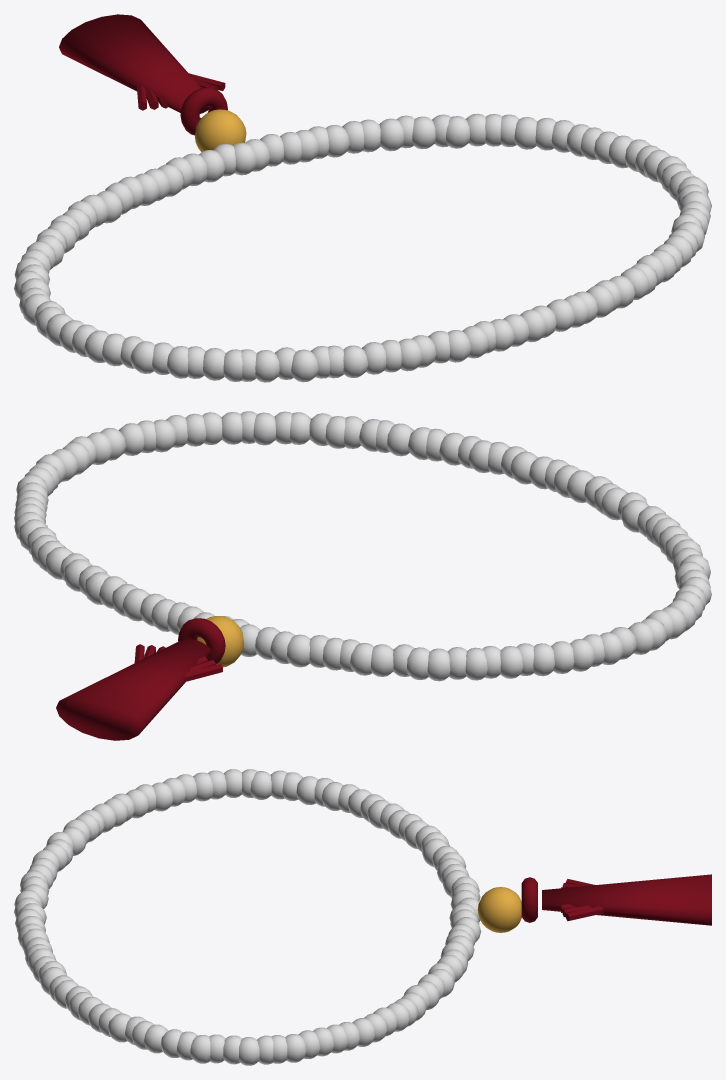
The model's file is chuoi_v2.glb.
3 views of the same model, one above another, from view 1: azimuth 30°, elevation 25°; view 2: azimuth 150°, elevation 25°; view 3: azimuth 270°, elevation 25° (orthographic). The views are drawn at different scales.
Visible parts, largest first — view 1: ChuoiV2; view 2: ChuoiV2; view 3: ChuoiV2.
Boxes of the visible parts, x1,y1,x2,y2 form: ChuoiV2: [14, 14, 711, 382]; ChuoiV2: [14, 411, 711, 740]; ChuoiV2: [14, 769, 711, 1065].
Size of the model in its own units: 0.2725 by 0.0235 by 0.2875.
